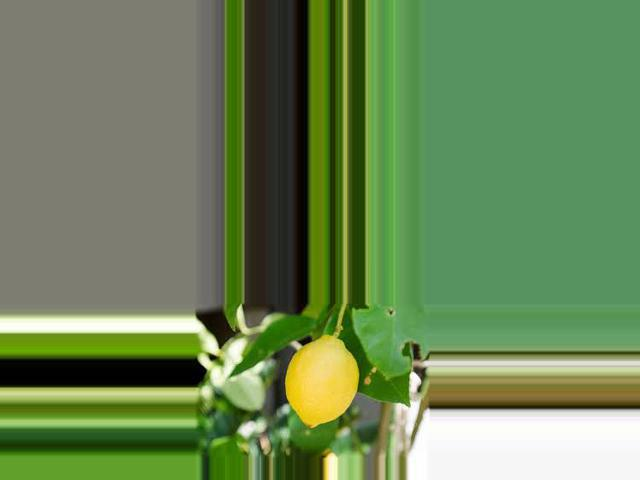lemon: (266, 329, 360, 440)
